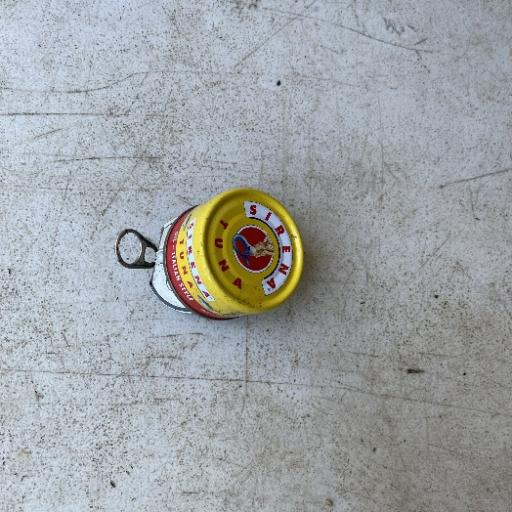Metal: (161, 186, 305, 322)
